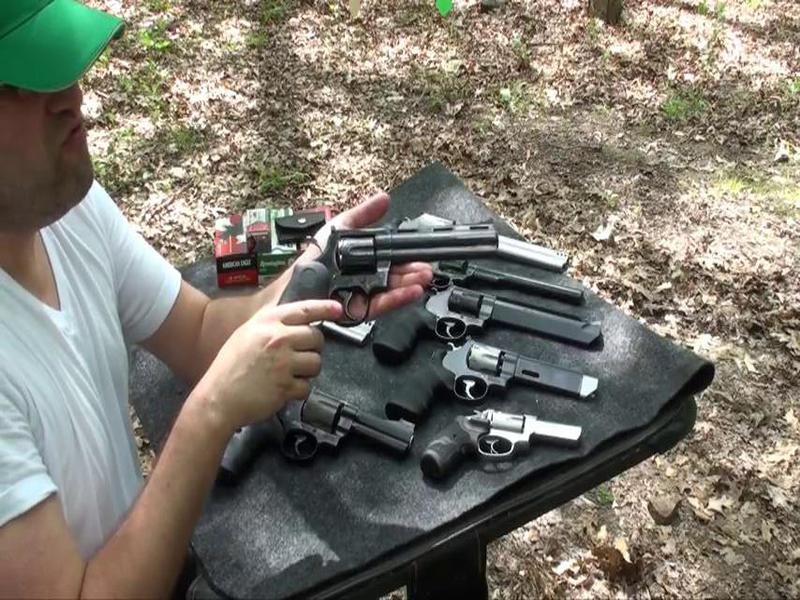Revolver: (287, 211, 504, 343)
